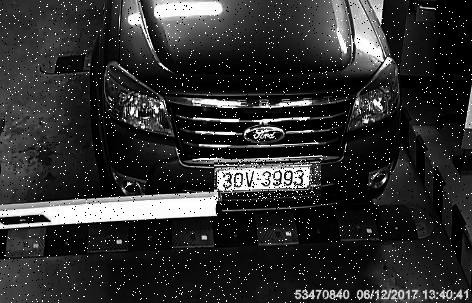License-plate: (215, 161, 322, 204)
